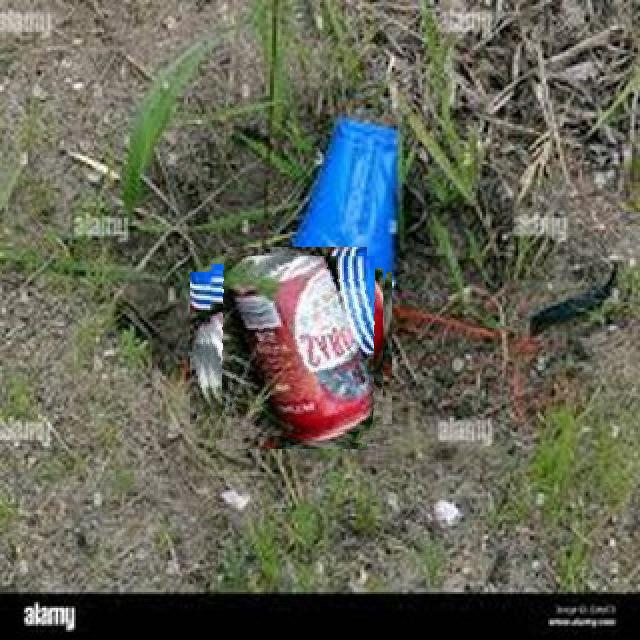recyclable: (199, 256, 383, 440)
